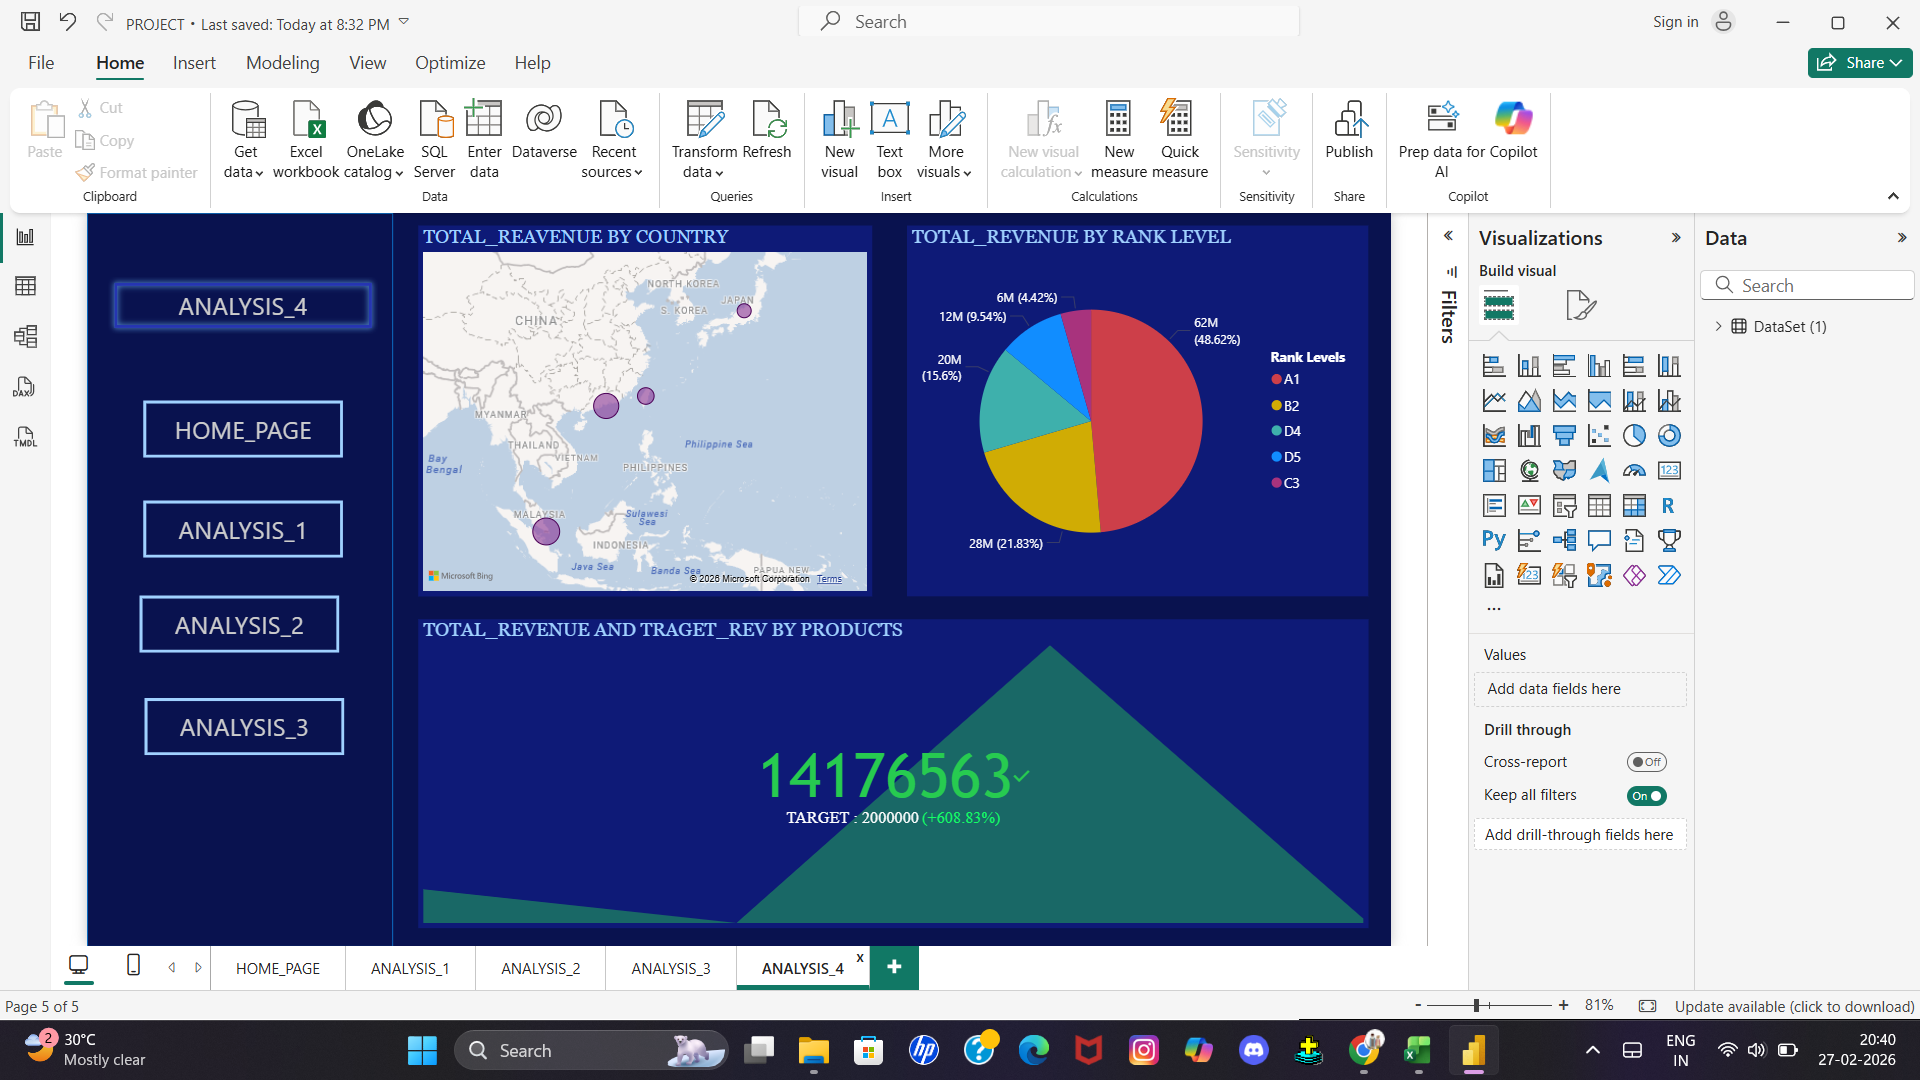

What the dashboard file says about the page in this screenshot:
{"tool":"powerbi","page":{"name":"ANALYSIS_4","canvas":[1280,720],"ordinal":4},"visuals":[{"type":"shape","box":[0,0,300.5,720.4],"z":0},{"type":"actionButton","box":[54.9,183.9,196.2,56.3],"z":1000},{"type":"actionButton","box":[56.3,476.2,196.2,56.3],"z":2000},{"type":"actionButton","box":[52.1,376,196.2,56.3],"z":3000},{"type":"actionButton","box":[20.6,63.1,264.8,56.3],"z":4000},{"type":"actionButton","box":[54.9,282.7,196.2,56.3],"z":5000},{"type":"pieChart","title":"TOTAL_REVENUE BY RANK LEVEL","fields":{"Y":["Sum(DataSet (1).Revenue (USD))"],"Category":["DataSet (1).Rank Levels"]},"box":[805.5,12.3,452.8,363.6],"z":6000},{"type":"kpi","title":"TOTAL_REVENUE AND TRAGET_REV BY PRODUCTS","fields":{"Indicator":["Sum(DataSet (1).Revenue (USD))"],"TrendLine":["DataSet (1).Products"],"Goal":["DataSet (1).Target_Rev"]},"box":[325.2,399.3,933.1,303.3],"z":7000},{"type":"map","title":"TOTAL_REAVENUE BY COUNTRY","fields":{"Category":["DataSet (1).Country"],"Size":["Sum(DataSet (1).Revenue (USD))"]},"box":[325.2,12.3,446,363.6],"z":8000}]}

Visuals, with their boxes on the page's 1280x720 design canvas (x1, y1, x2, y2). These are canvas units, not pixel positions in the 1920x1080 screenshot, which may show the page scaled, cropped or inside an application window:
shape: Rect(0, 0, 300, 720)
actionButton: Rect(55, 184, 251, 240)
actionButton: Rect(56, 476, 252, 532)
actionButton: Rect(52, 376, 248, 432)
actionButton: Rect(21, 63, 285, 119)
actionButton: Rect(55, 283, 251, 339)
"TOTAL_REVENUE BY RANK LEVEL" pieChart: Rect(806, 12, 1258, 376)
"TOTAL_REVENUE AND TRAGET_REV BY PRODUCTS" kpi: Rect(325, 399, 1258, 703)
"TOTAL_REAVENUE BY COUNTRY" map: Rect(325, 12, 771, 376)
